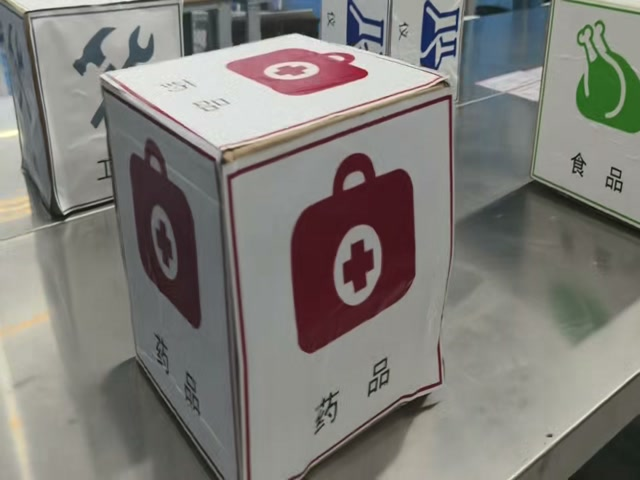Cube_medicine: (103, 35, 445, 158)
